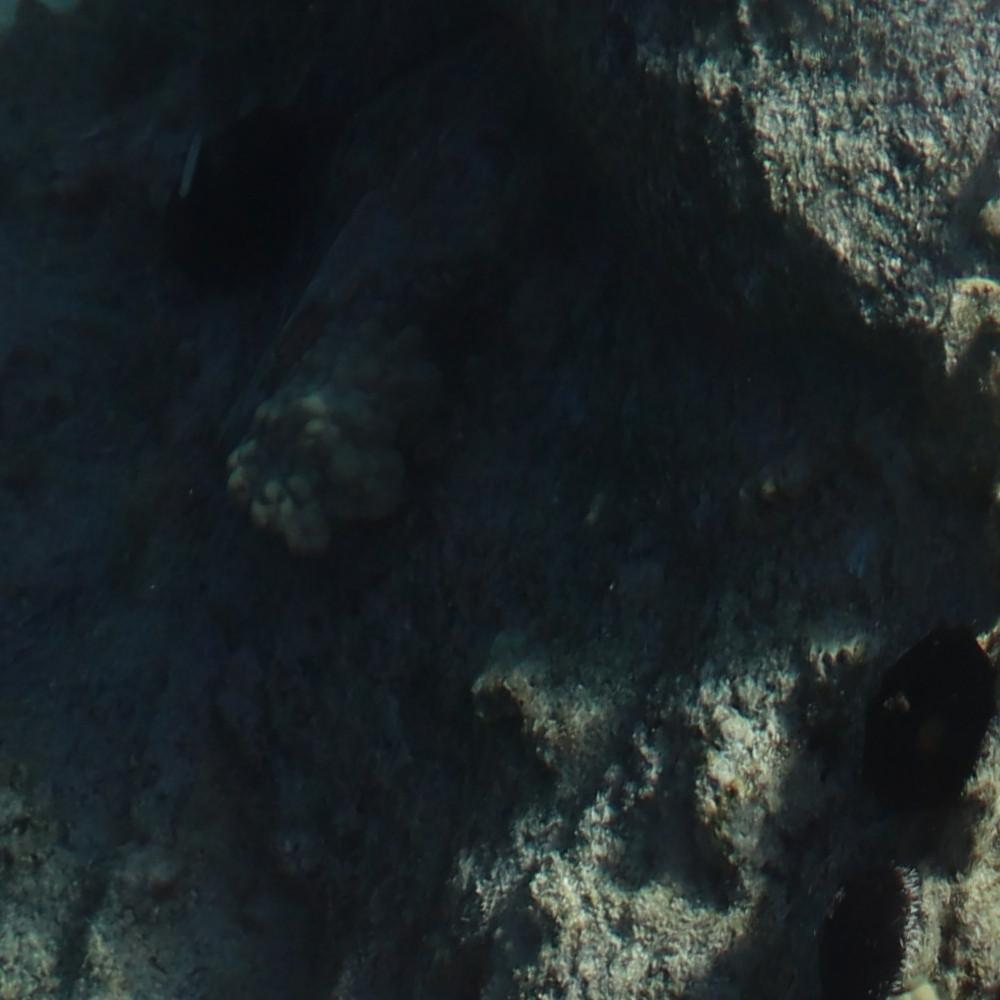tripneustes_gratilla: (162, 93, 341, 309), (864, 629, 1000, 823), (811, 862, 924, 1000)
